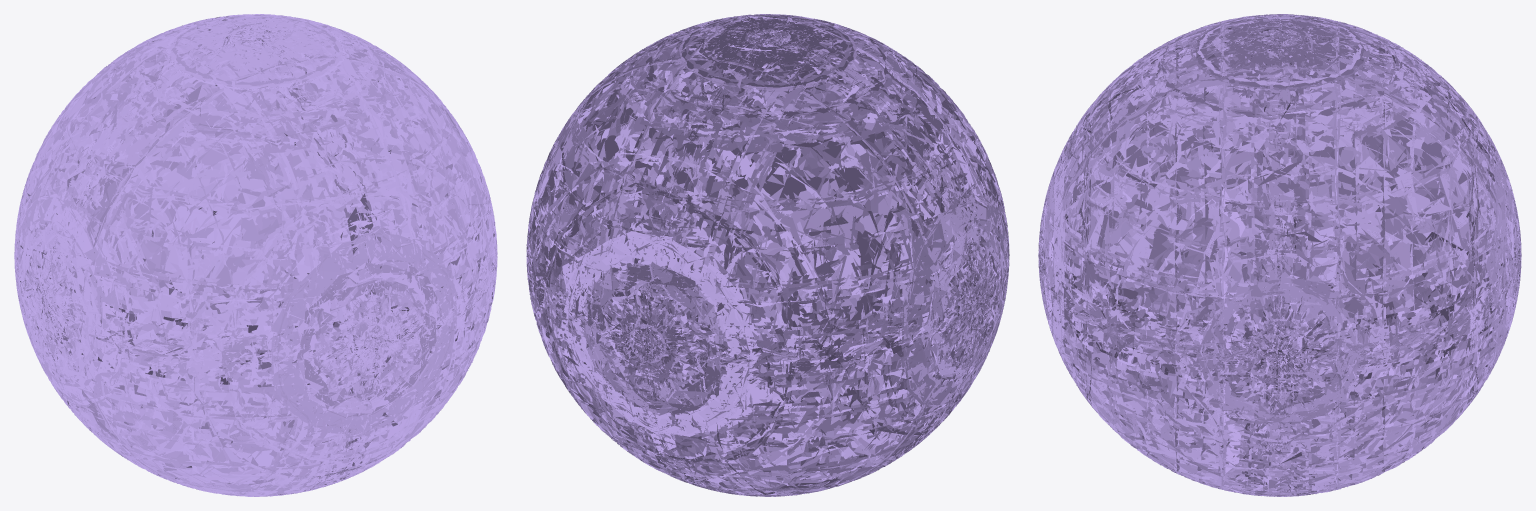
The model's file is sys-id-instrument.glb.
The picture shows the model from 3 angles, left to right: view 1: azimuth 30°, elevation 25°; view 2: azimuth 150°, elevation 25°; view 3: azimuth 270°, elevation 25°; orthographic projection.
Visible parts, largest first — view 1: TS-id-instrument-1702, TS-id-instrument-1690, TS-id-instrument-1698, TS-id-instrument-1699, TS-id-instrument-1691, TS-id-instrument-1701, TS-id-instrument-1689, TS-id-instrument-1700, TS-id-instrument-1693, TS-id-instrument-1692; view 2: TS-id-instrument-1702, TS-id-instrument-1690, TS-id-instrument-1698, TS-id-instrument-1699, TS-id-instrument-1691, TS-id-instrument-1701, TS-id-instrument-1689, TS-id-instrument-1700, TS-id-instrument-1693, TS-id-instrument-1692; view 3: TS-id-instrument-1702, TS-id-instrument-1690, TS-id-instrument-1698, TS-id-instrument-1699, TS-id-instrument-1691, TS-id-instrument-1689, TS-id-instrument-1701, TS-id-instrument-1700, TS-id-instrument-1693, TS-id-instrument-1692.
Part boxes in pixels (box(x1,y1,x2,y2)): TS-id-instrument-1702: box(14, 14, 497, 496); TS-id-instrument-1690: box(14, 14, 496, 496); TS-id-instrument-1698: box(14, 14, 497, 490); TS-id-instrument-1699: box(19, 14, 492, 496); TS-id-instrument-1691: box(14, 14, 497, 494); TS-id-instrument-1701: box(14, 14, 497, 493); TS-id-instrument-1689: box(14, 14, 497, 496); TS-id-instrument-1700: box(17, 16, 496, 487); TS-id-instrument-1693: box(15, 18, 496, 492); TS-id-instrument-1692: box(15, 15, 490, 493); TS-id-instrument-1702: box(526, 14, 1008, 496); TS-id-instrument-1690: box(526, 14, 1009, 495); TS-id-instrument-1698: box(526, 14, 1009, 491); TS-id-instrument-1699: box(528, 15, 1007, 480); TS-id-instrument-1691: box(526, 15, 1009, 494); TS-id-instrument-1701: box(526, 17, 1008, 493); TS-id-instrument-1689: box(526, 14, 1009, 496); TS-id-instrument-1700: box(527, 16, 1006, 492); TS-id-instrument-1693: box(527, 16, 1008, 495); TS-id-instrument-1692: box(528, 16, 994, 494); TS-id-instrument-1702: box(1038, 14, 1520, 496); TS-id-instrument-1690: box(1038, 15, 1521, 496); TS-id-instrument-1698: box(1038, 14, 1521, 496); TS-id-instrument-1699: box(1043, 14, 1519, 332); TS-id-instrument-1691: box(1038, 15, 1521, 496); TS-id-instrument-1689: box(1039, 14, 1520, 495); TS-id-instrument-1701: box(1038, 16, 1521, 496); TS-id-instrument-1700: box(1039, 16, 1519, 496); TS-id-instrument-1693: box(1039, 14, 1521, 496); TS-id-instrument-1692: box(1040, 14, 1520, 494).
Bounding box in the file's own units: 2 × 2 × 2.
